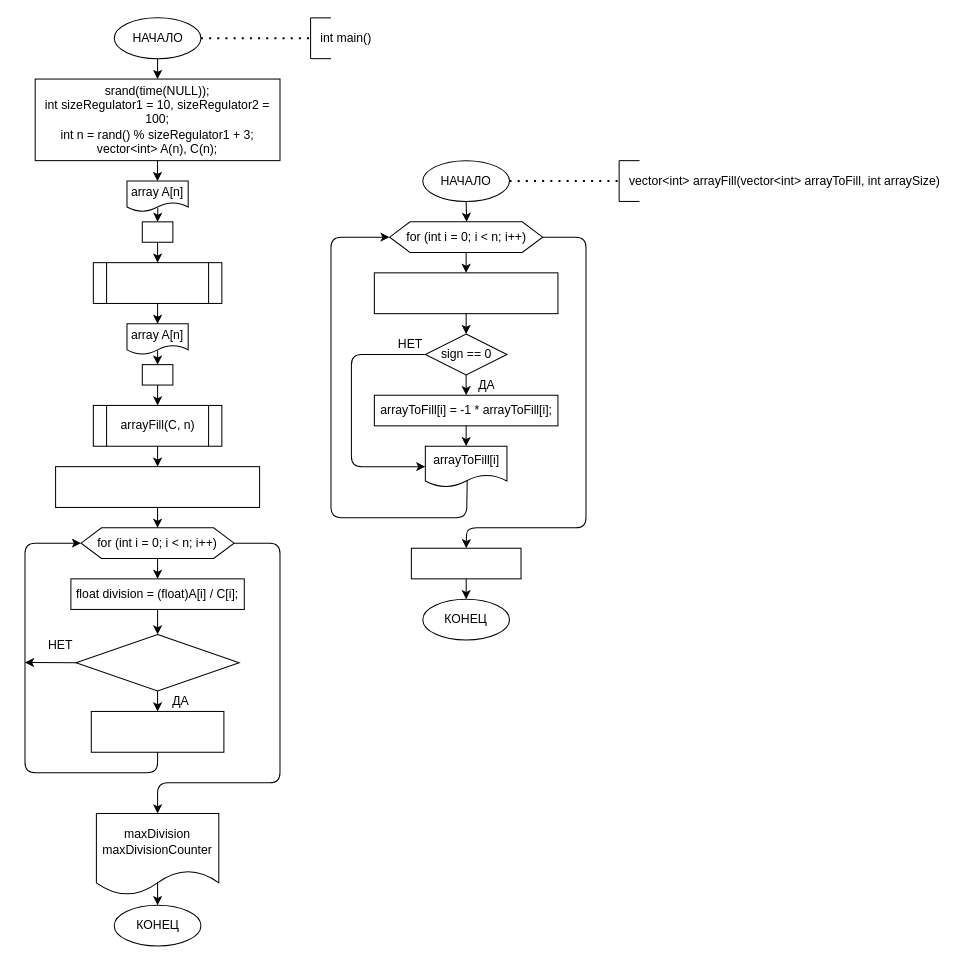
Image size: 961x964. Some labels were removed from this diagram. The box of each missing label's shape, as (x1, y1, x2, y2) in pixels:
arrayFill(A, n): (92, 262, 222, 303)
arrayToFill[i] = rand() % 100 + 1; int sign = rand() % 2;: (373, 272, 558, 314)
division > maxDivision: (75, 633, 239, 691)
float maxDivision = (float)A[0]/C[0]; int maxDivisionCounter=0;: (55, 466, 260, 507)
maxDivision = division; maxDivisionCounter = i;: (90, 710, 224, 752)
return arrayToFill;: (410, 547, 521, 579)
А=: (141, 221, 173, 242)
С=: (141, 364, 173, 385)
